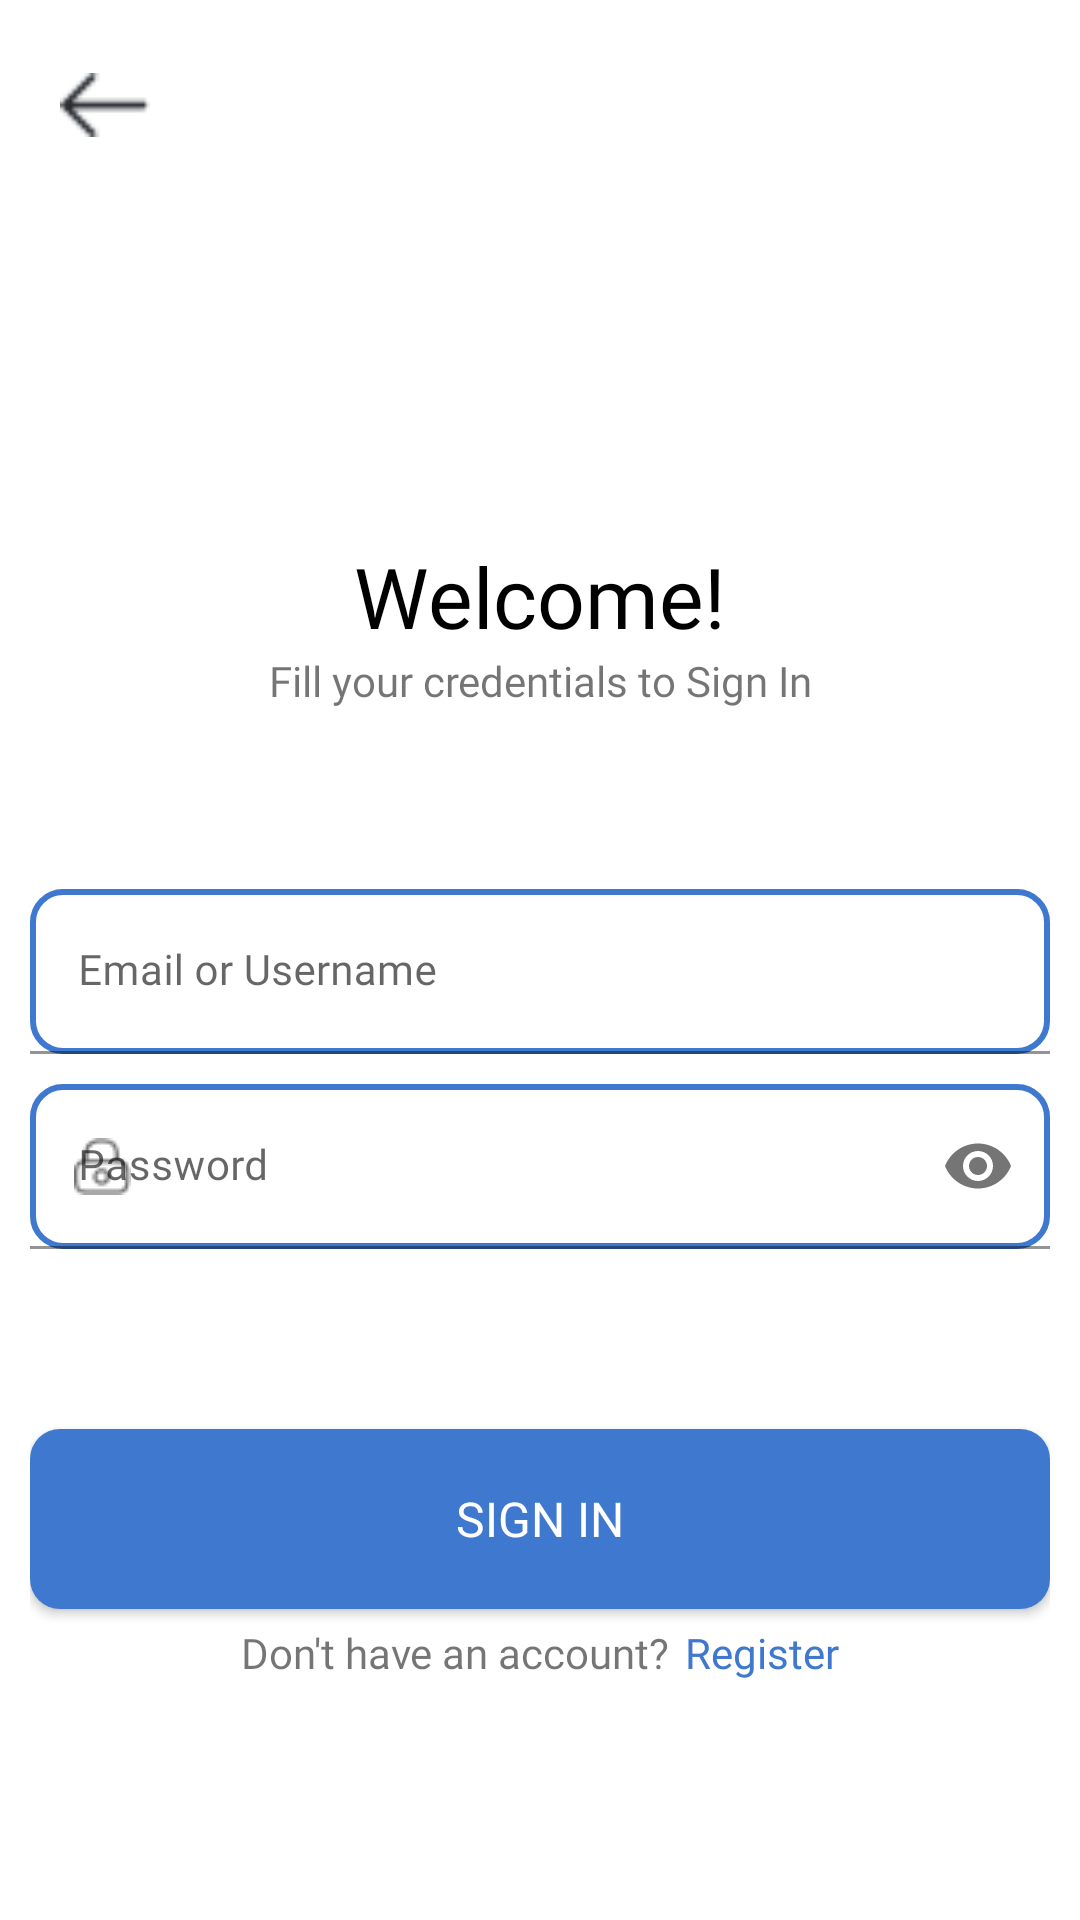

Named icons in this screenshot (1080×1920) and their bounding boxes, [x1, y1, x2, y2]:
Back: [60, 73, 148, 137]
